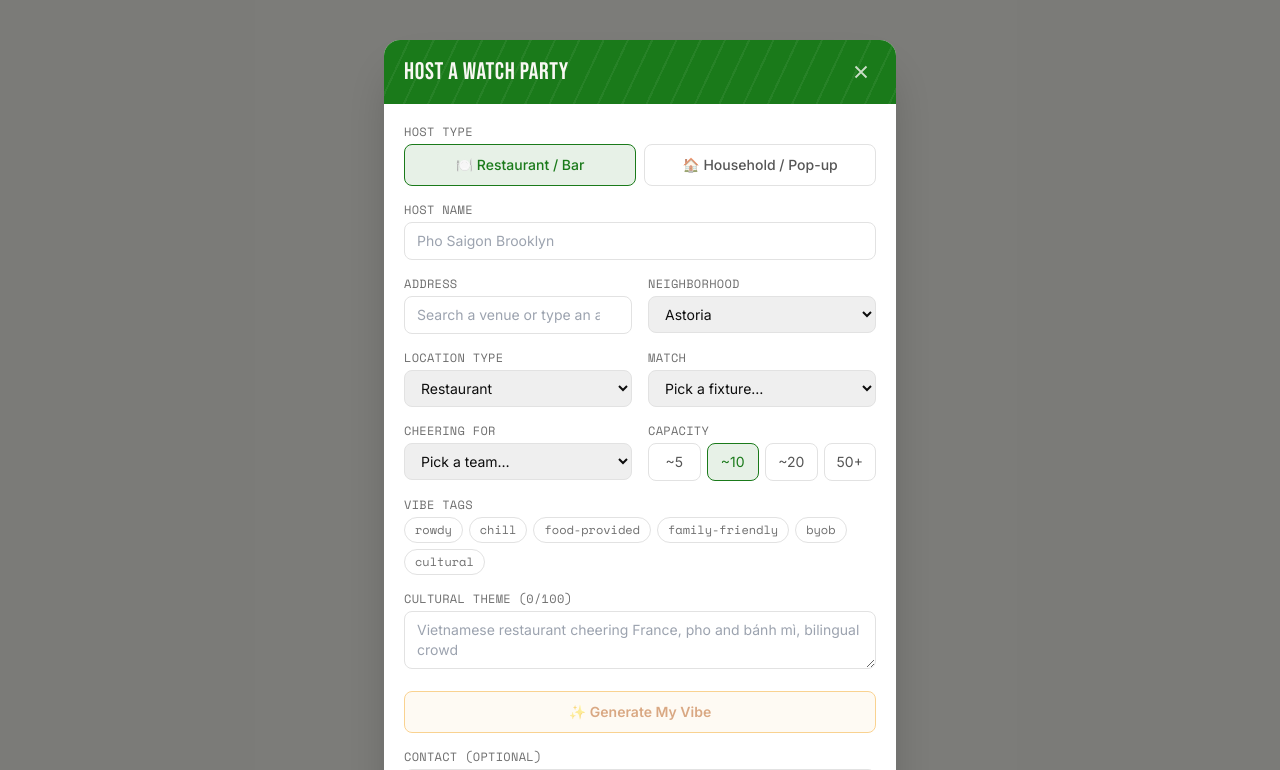
Scenario: HostModal › disables Generate until a cultural theme is entered
Expected: the button "✨ Generate My Vibe" is disabled, [404,691,876,733]
Replace the text in the text box labelled "Cultural theme (0/100)" with "pho and bun bo" at x=640, y=640, box [404,611,876,669]
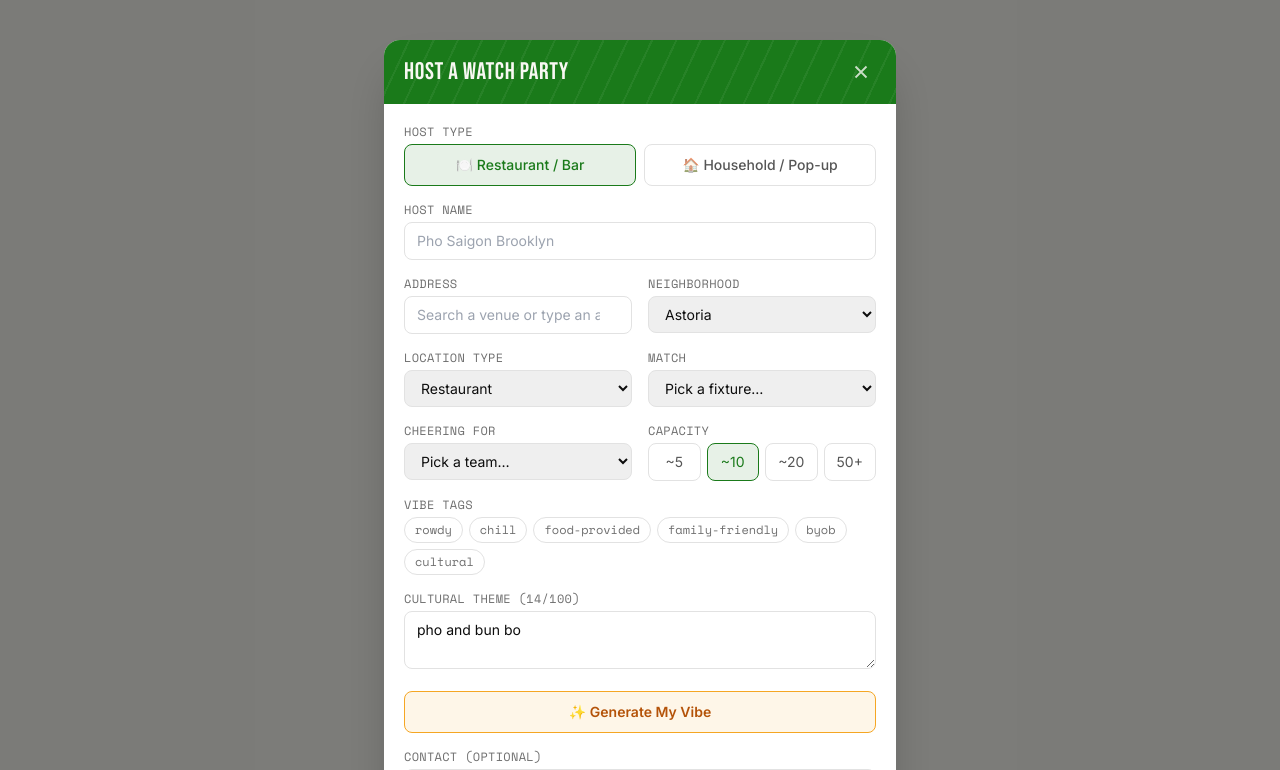
Expected: the button "✨ Generate My Vibe" is enabled, [404,691,876,733]
